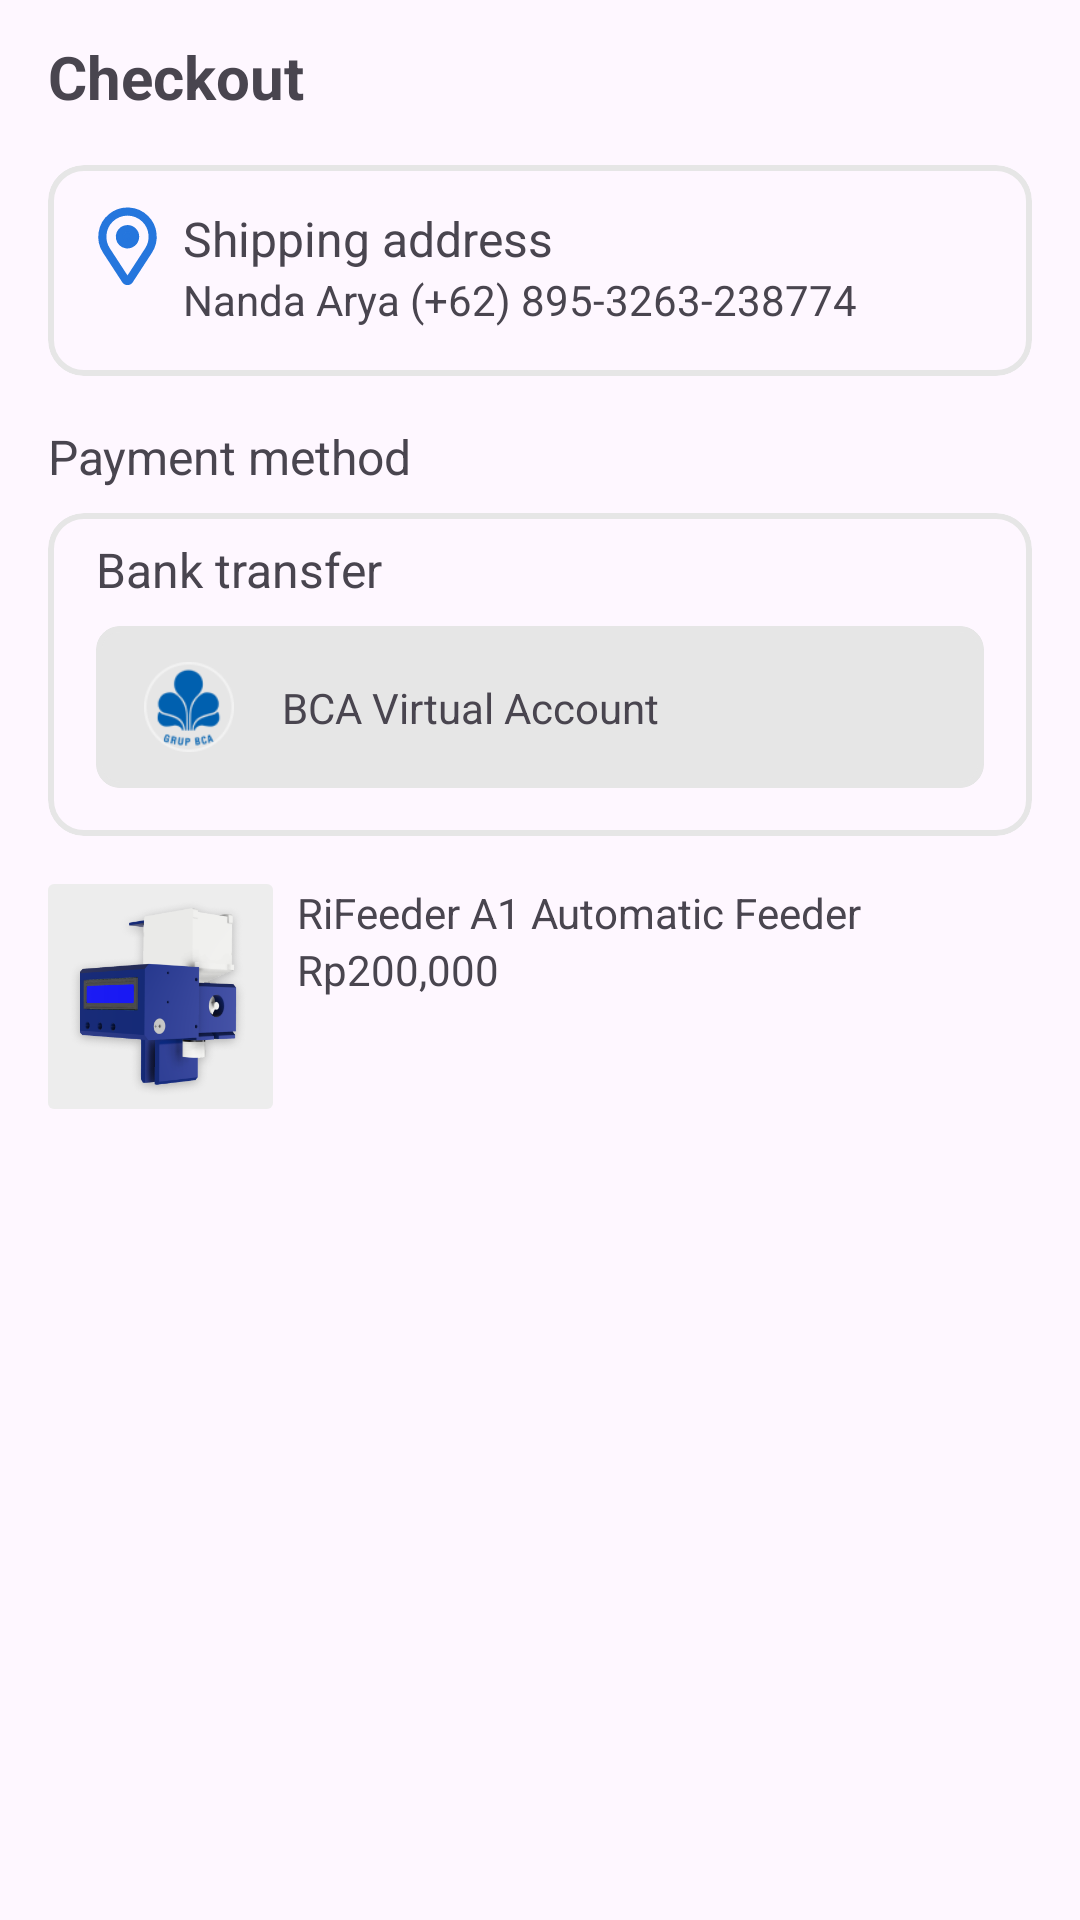

Point at icon controls on the screen. Image size 1080*1920, points as point (x, y).
pin location: point (127, 246)
